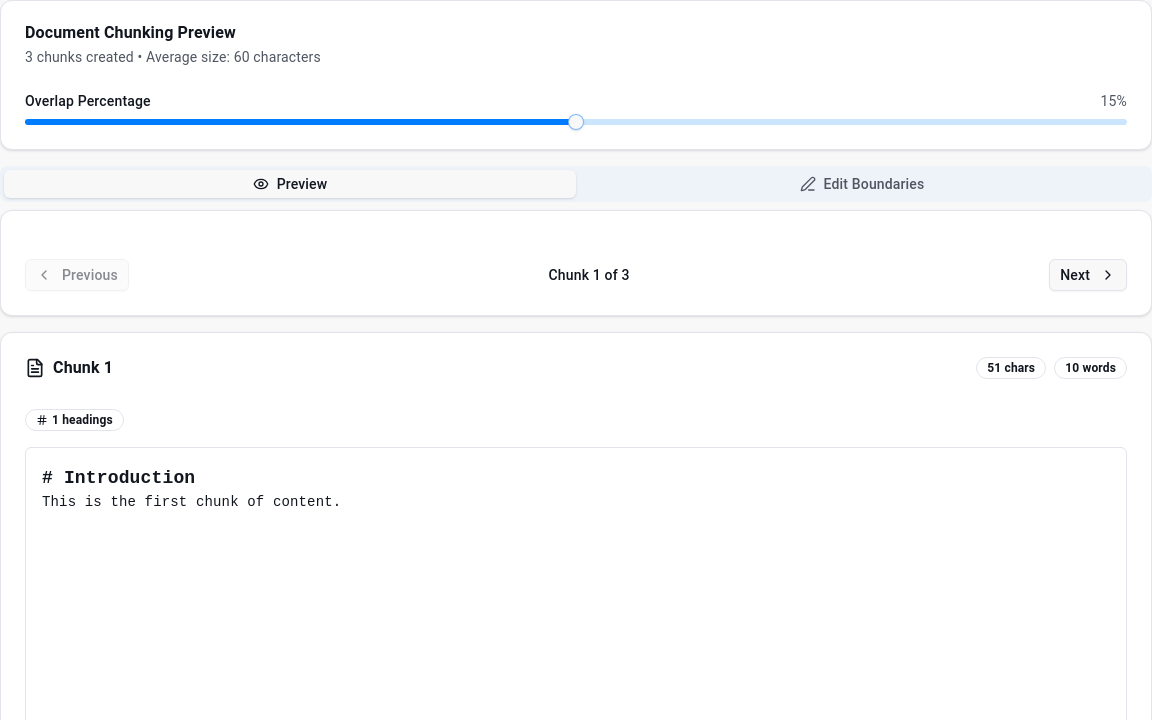
it: ChunkPreview › should navigate between chunks
Click the button "Next".
click(1088, 275)  # box left=1049, top=259, right=1127, bottom=291
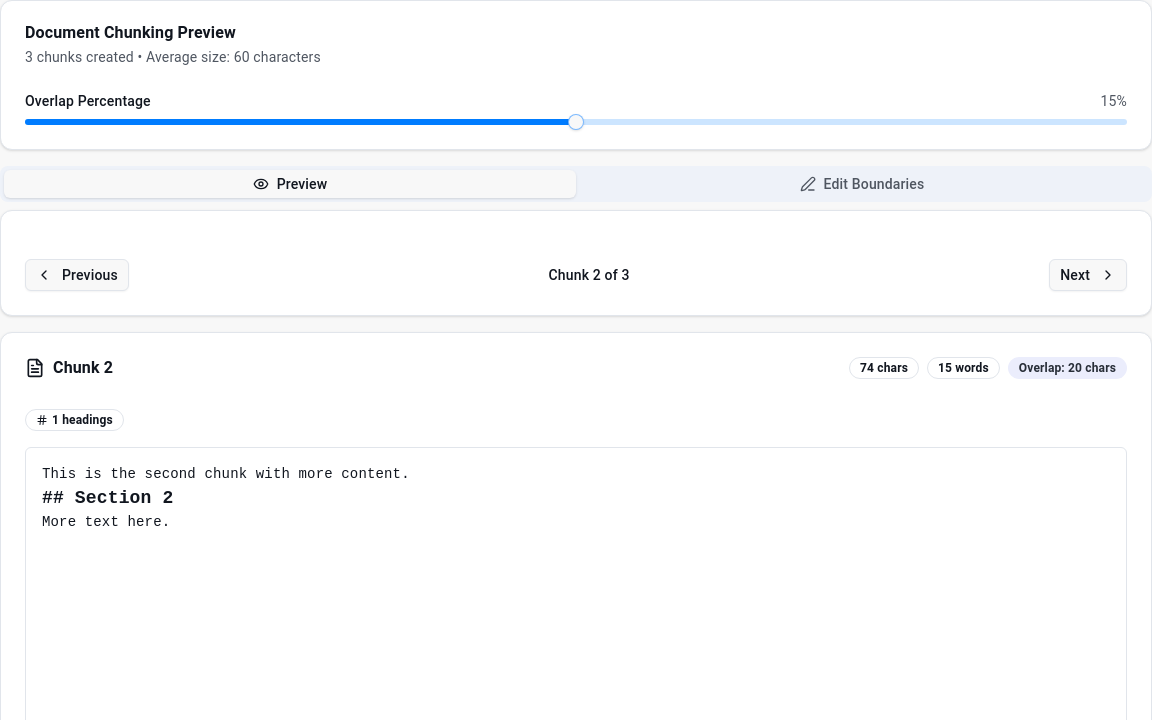
Now the text "Chunk 2 of 3" is shown, box left=549, top=265, right=630, bottom=285
Now the text "15 words" is shown, box left=927, top=357, right=1000, bottom=379
